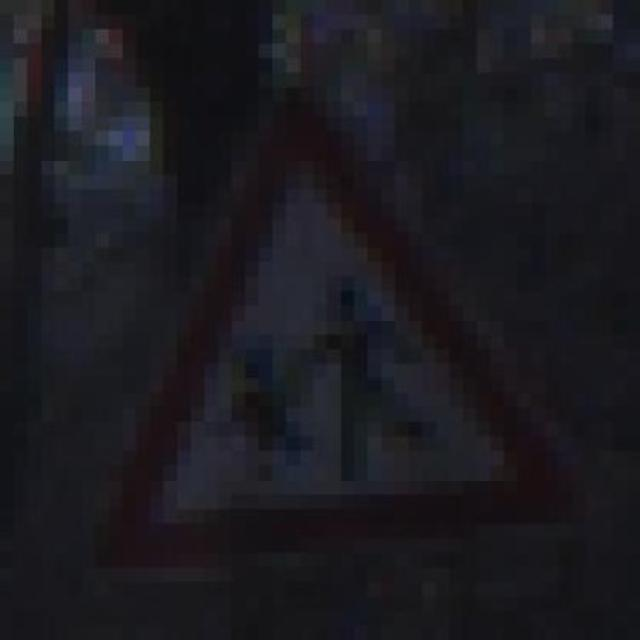Beware of children: (68, 102, 572, 552)
